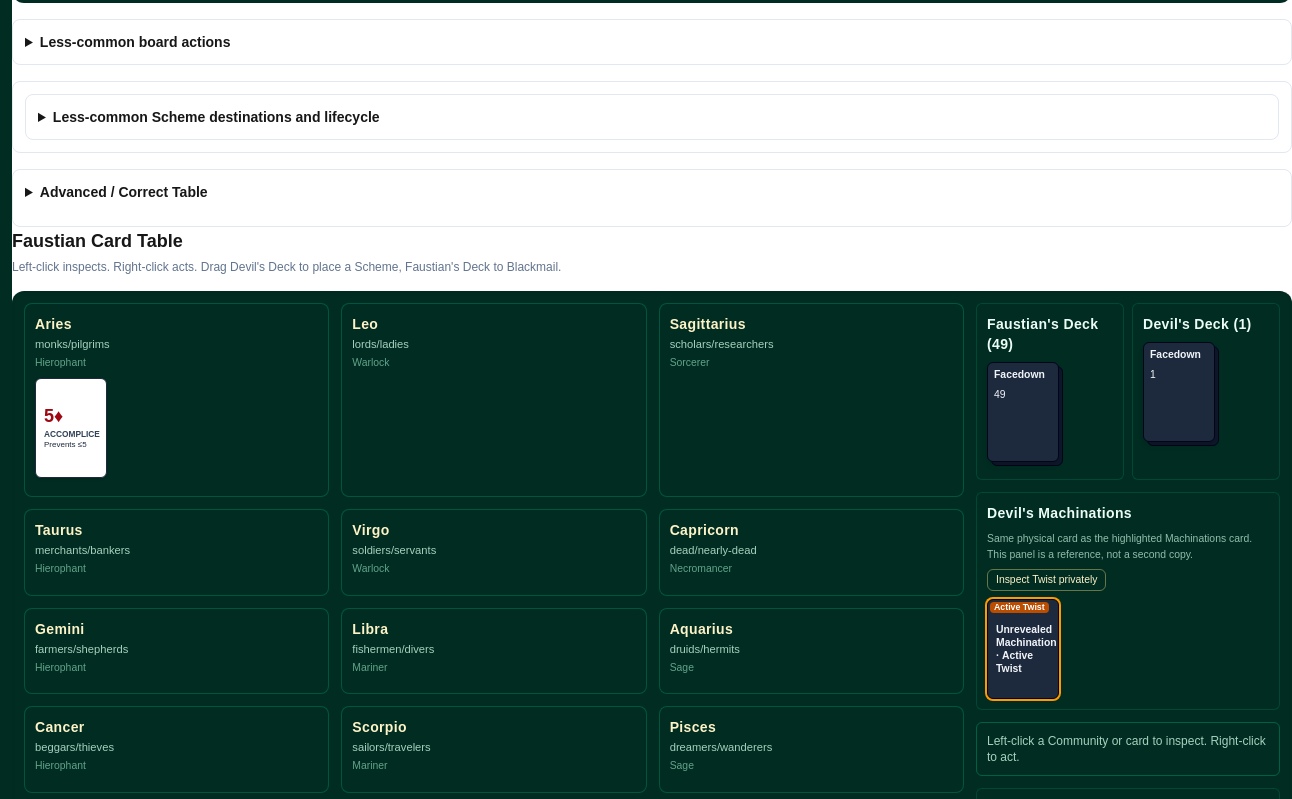
Test: contextual Community actions › does not claim prevention when a placed Scheme outranks the Accomplice
(page scrolled)
Right-click the element showing "Aries monks/pilgrims Hierophant 5♦ Accomplice Prevents ≤5" at [177, 400], box [24,303,329,498]
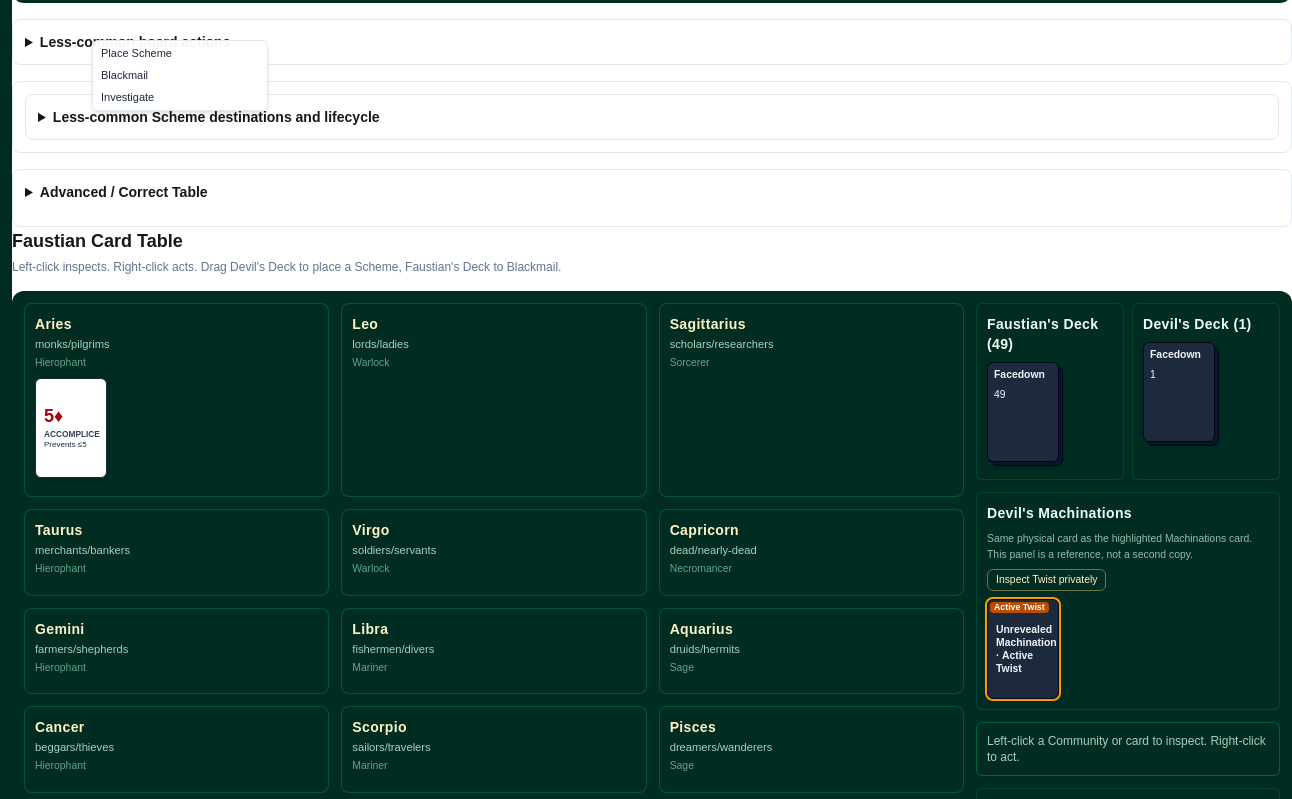
Click the menu item "Place Scheme" at [180, 54], box [93,43,267,65]
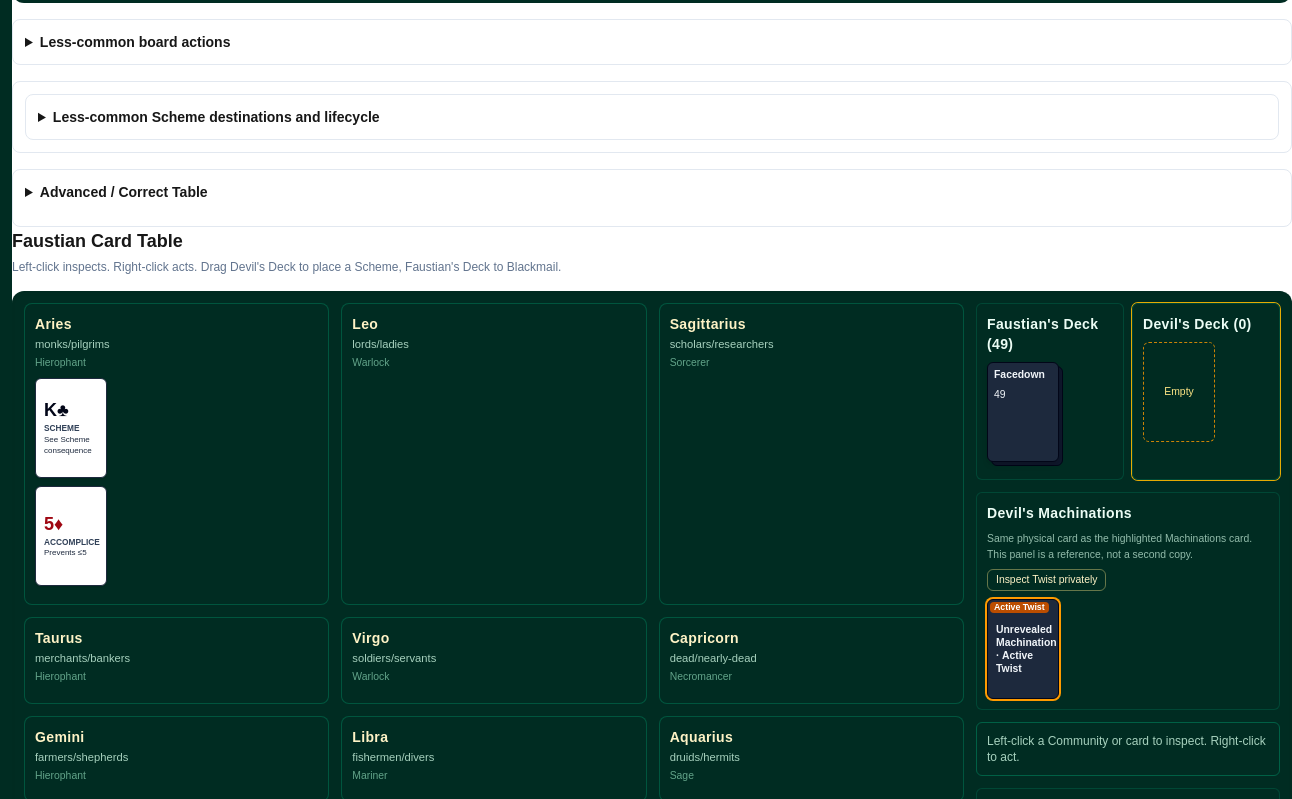
Check: the button "K♣ Scheme See Scheme consequence" is shown, box [35,378,107,478]
